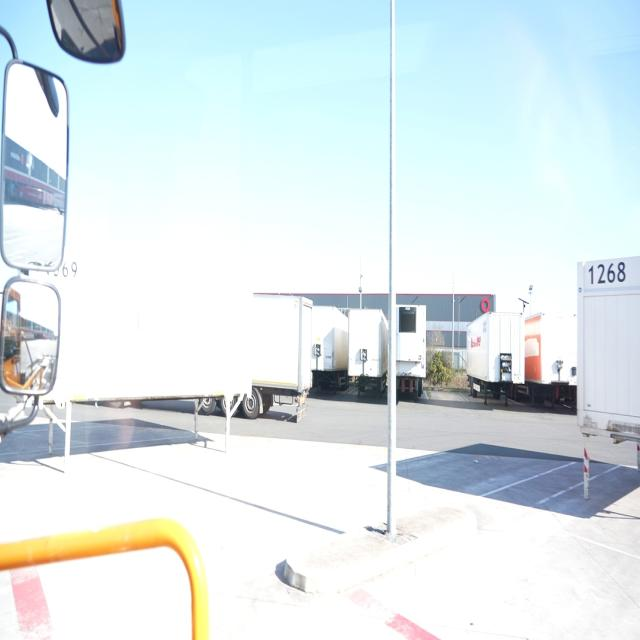Code: (584, 258, 630, 291)
